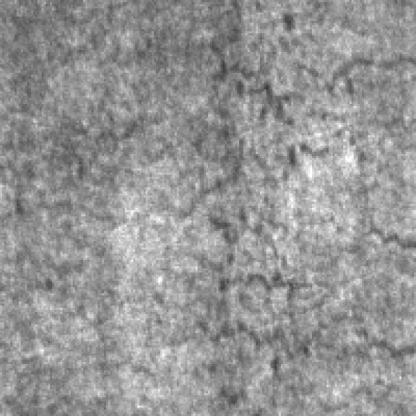crazing: (196, 39, 414, 202), (189, 223, 410, 382)
